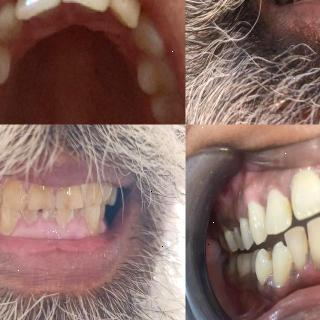Gum Swelling: (15, 218, 103, 242)
calculus: (302, 241, 318, 269)
maligned: (286, 171, 320, 220), (264, 190, 290, 234), (270, 243, 294, 285), (286, 230, 309, 266), (306, 218, 320, 264), (255, 250, 275, 280)
plaque: (77, 204, 97, 240), (54, 182, 78, 208), (1, 173, 23, 200), (0, 205, 20, 234), (26, 181, 53, 201), (20, 202, 41, 224), (286, 255, 300, 278), (80, 181, 94, 203), (41, 207, 58, 225), (61, 207, 77, 224), (100, 183, 112, 201), (222, 228, 232, 245), (233, 223, 243, 239)
stains: (283, 195, 297, 219)
